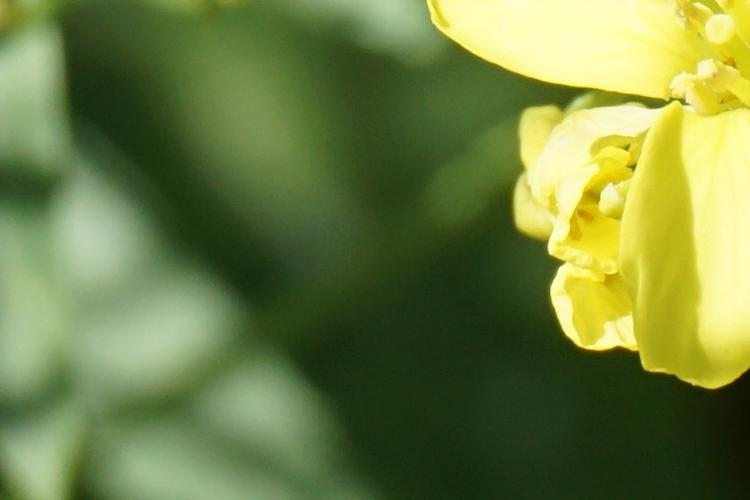yellow: (460, 15, 750, 395)
